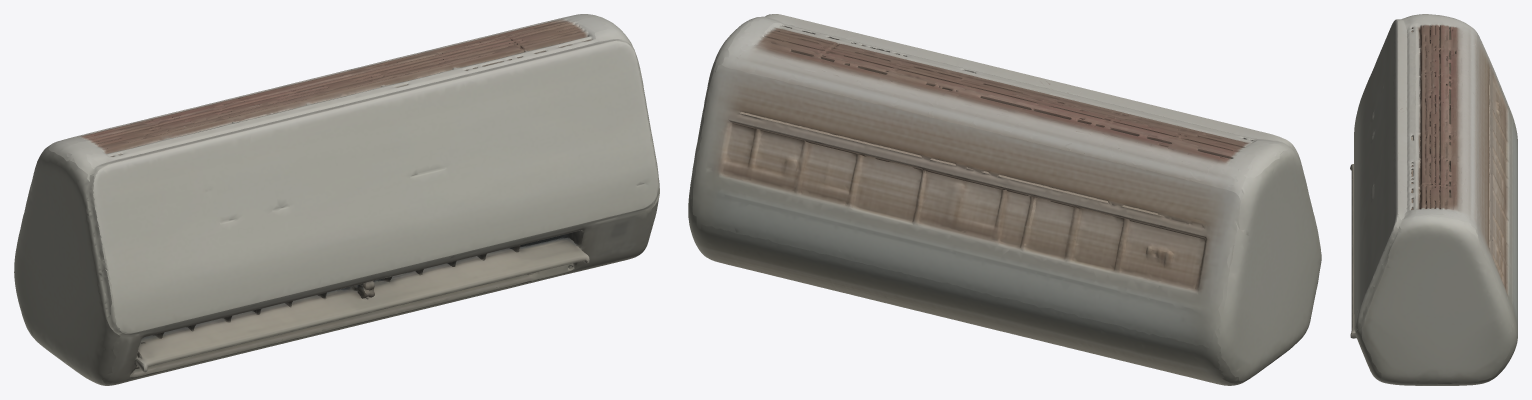
Rendered from item_96315689.glb.
3 renders of one model, left to right at view 1: azimuth 30°, elevation 25°; view 2: azimuth 150°, elevation 25°; view 3: azimuth 270°, elevation 25°, orthographic. The views are drawn at different scales.
Parts seen in each view (by area): view 1: world; view 2: world; view 3: world.
Part boxes in pixels (bbox=[...]): world: bbox=[14, 14, 659, 385]; world: bbox=[688, 14, 1321, 385]; world: bbox=[1350, 14, 1517, 385].
Bounding box in the file's own units: 0.9 × 0.3401 × 0.3027.
Materials: 1 (1 with a texture image).
